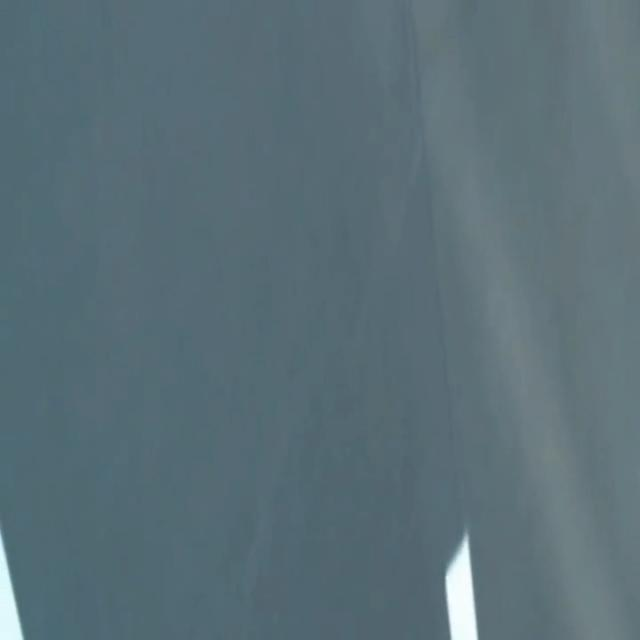center: (445, 532, 477, 639)
left: (0, 532, 23, 639)
